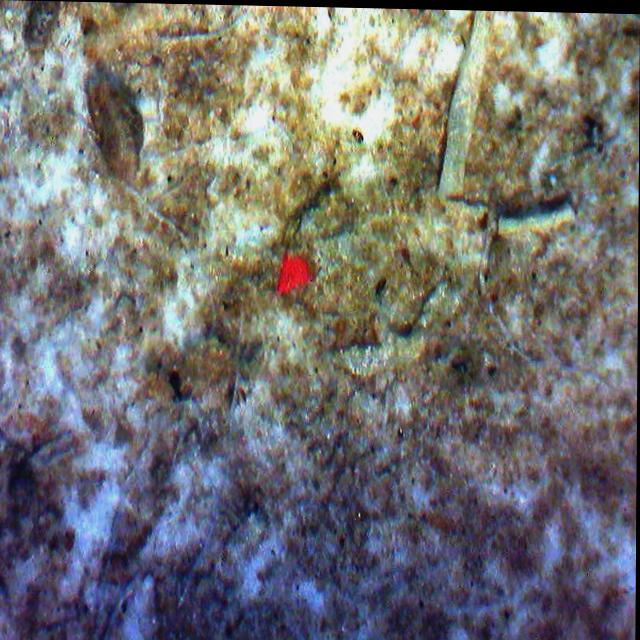microplastic: (274, 251, 317, 302)
